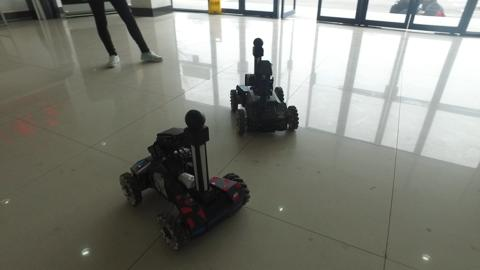chariot: (115, 106, 251, 255), (222, 36, 304, 139)
